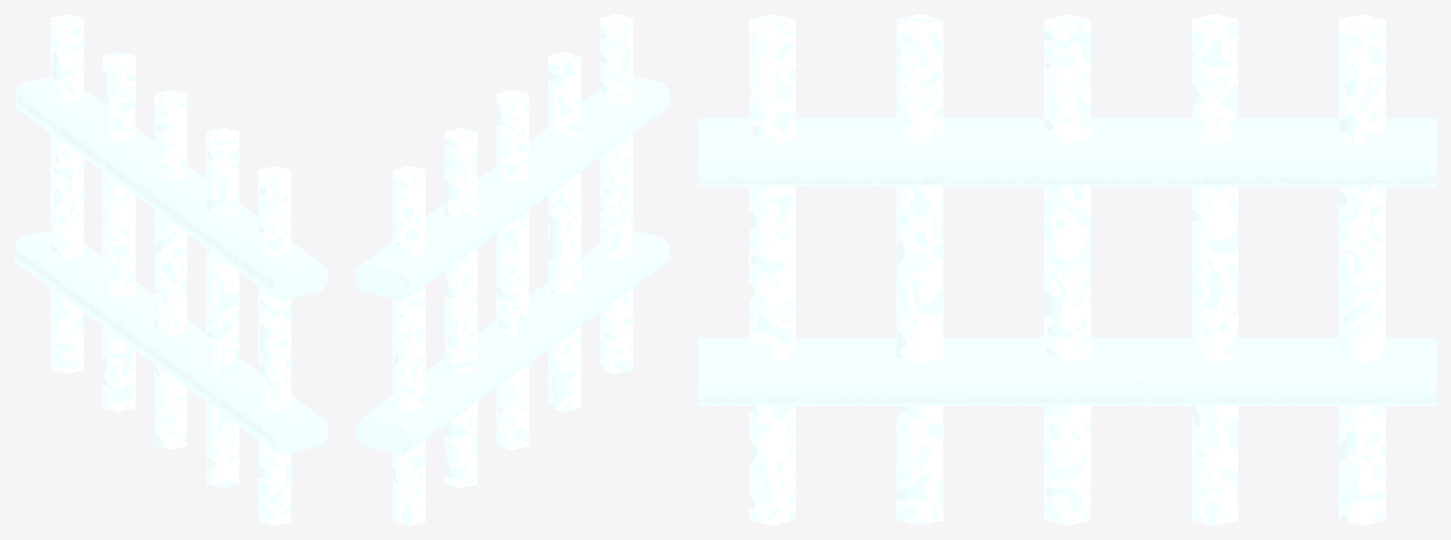
Rendered from 166_167_small_bars.glb.
3 views of the same model, side by side, from view 1: azimuth 30°, elevation 25°; view 2: azimuth 150°, elevation 25°; view 3: azimuth 270°, elevation 25° (orthographic). The views are drawn at different scales.
Parts seen in each view (by area): view 1: v_bars, h_bars; view 2: v_bars, h_bars; view 3: v_bars, h_bars.
Boxes of the visible parts, x1,y1,x2,y2 form: v_bars: [50, 14, 291, 525]; h_bars: [14, 76, 327, 455]; v_bars: [392, 14, 633, 525]; h_bars: [356, 76, 669, 455]; v_bars: [749, 14, 1385, 525]; h_bars: [698, 118, 1436, 405].
Size of the model in its own units: 0.18 by 1.1 by 1.5.
2 materials, 2 textured.
